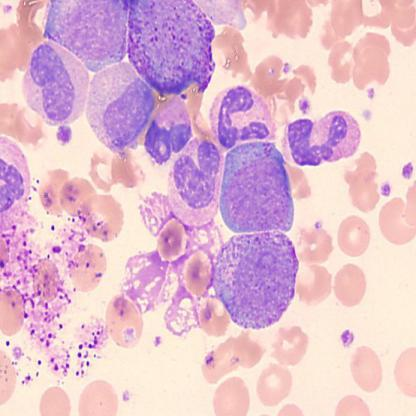Promyelocyte: (218, 142, 296, 233)
